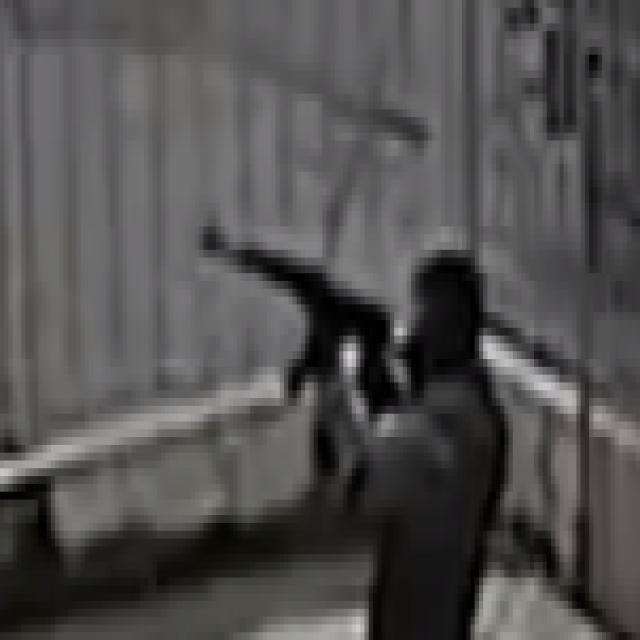FRifle: (192, 207, 402, 391)
